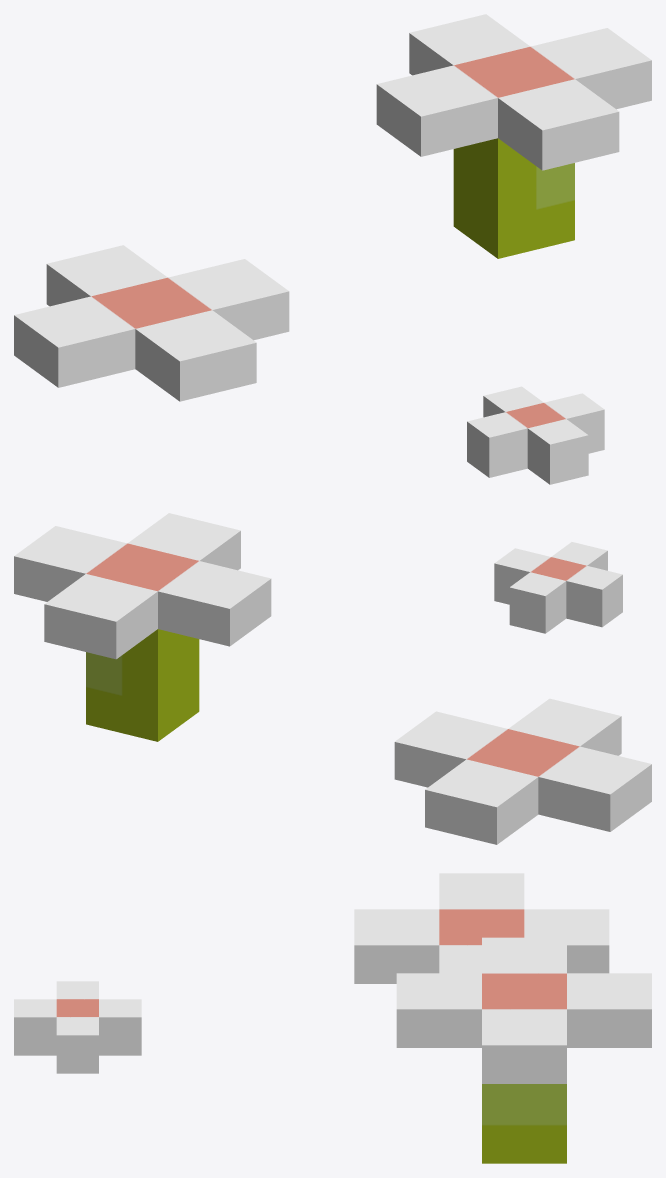
Rendered from Flower_C.fbx.
The picture shows the model from 3 angles, top to bottom: view 1: azimuth 30°, elevation 25°; view 2: azimuth 150°, elevation 25°; view 3: azimuth 270°, elevation 25°; orthographic projection. The views are drawn at different scales.
Parts seen in each view (by area): view 1: Flower_C; view 2: Flower_C; view 3: Flower_C.
Part boxes in pixels (bbox=[...]): Flower_C: bbox=[14, 14, 651, 484]; Flower_C: bbox=[14, 513, 651, 844]; Flower_C: bbox=[14, 873, 651, 1163].
Bounding box in the file's own units: 16 × 4 × 15.
